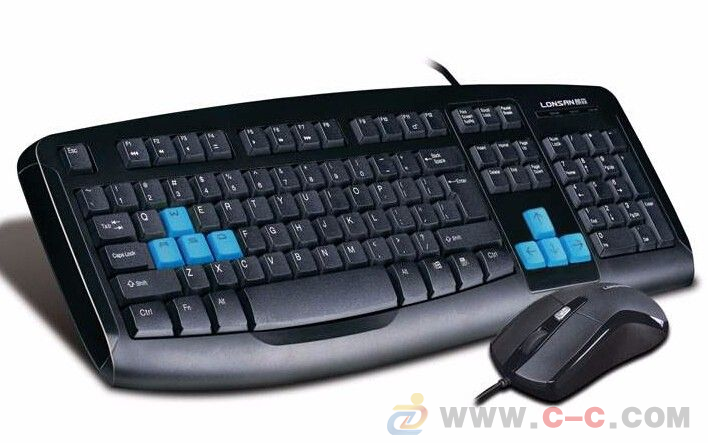keyboard: (17, 81, 696, 387)
mouse: (489, 282, 671, 405)
